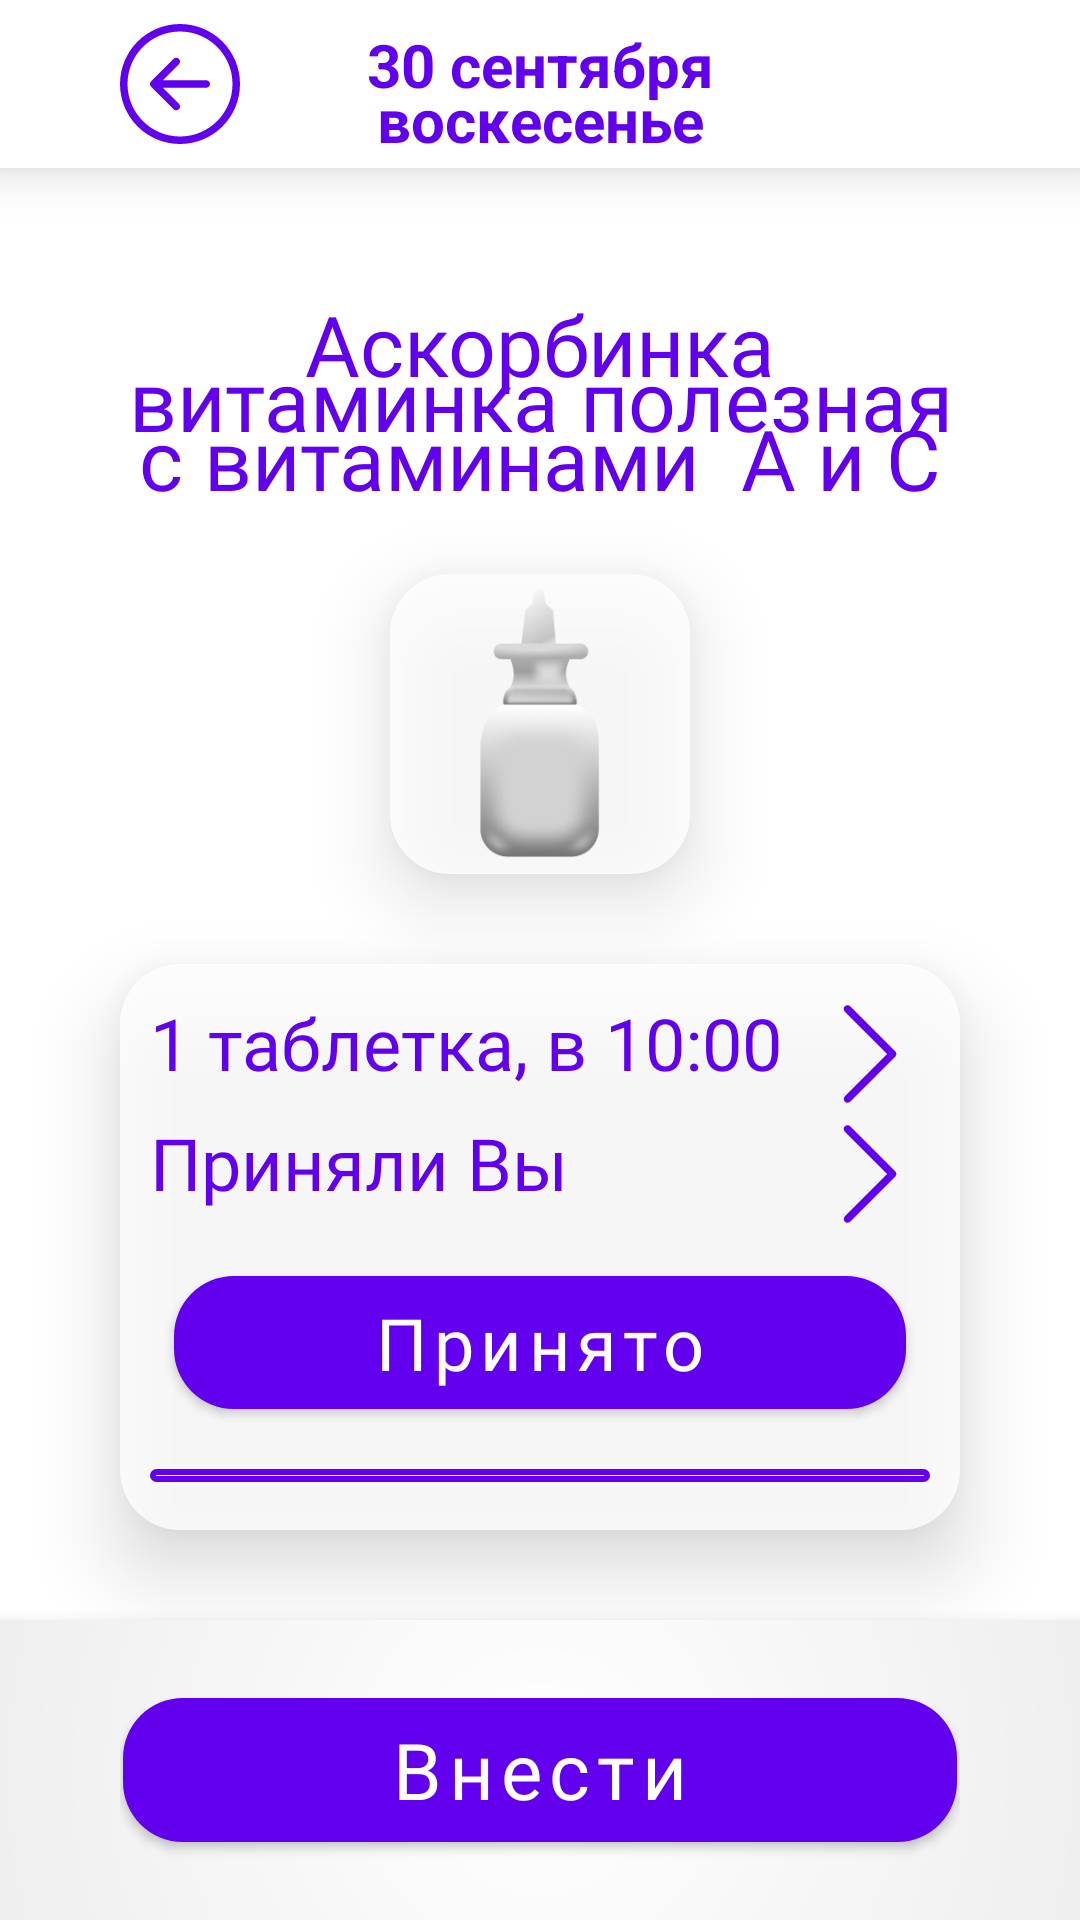

Point at icon controls on the screen. Image size 1080px x 1920px, points as (x=x, y=y).
arrow left circle: (x=180, y=84)
chevron right: (x=870, y=1054), (x=870, y=1174)
картинка спрей: (x=539, y=731)
